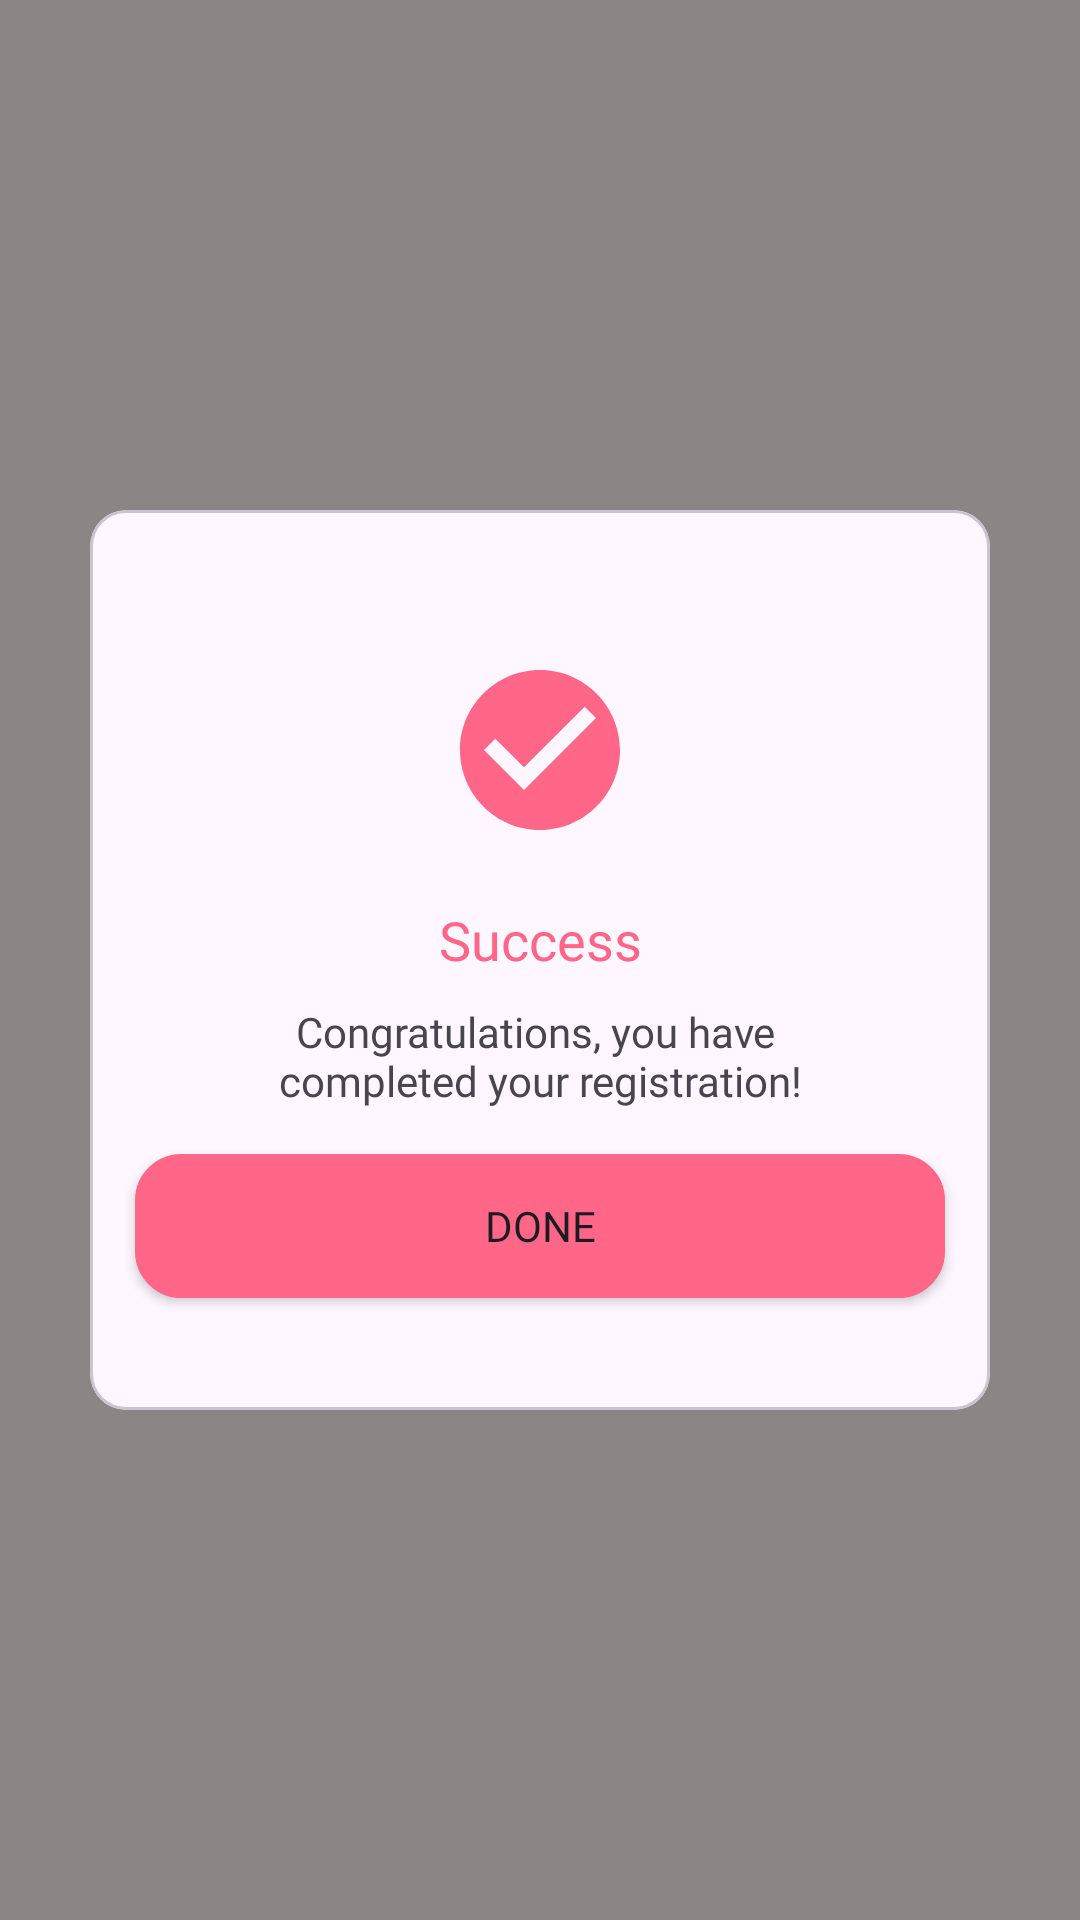

Screen size 1080×1920. Icon name, then its center in pixels as (x=x, y=y):
check circle: (x=540, y=750)
